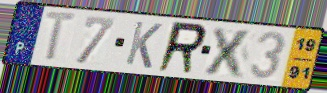3: (249, 30, 289, 82)
7: (77, 15, 117, 66)
K: (123, 19, 164, 71)
R: (154, 20, 210, 76)
T: (42, 10, 80, 64)
X: (200, 25, 256, 81)
